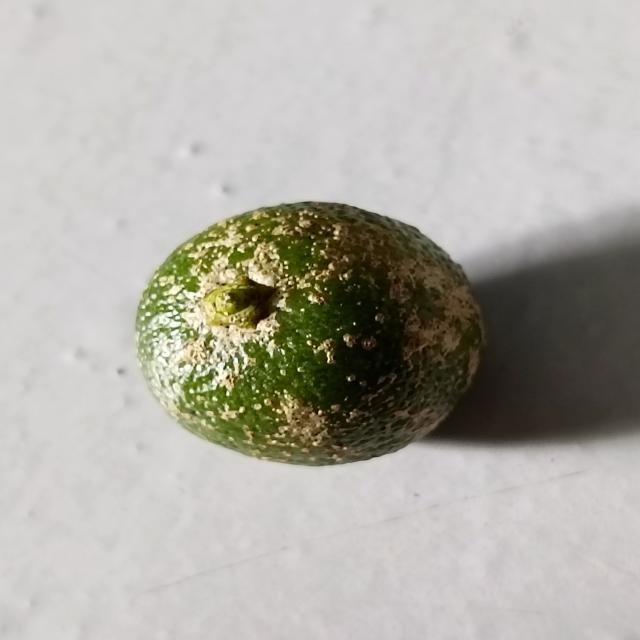scab: (133, 191, 492, 470)
